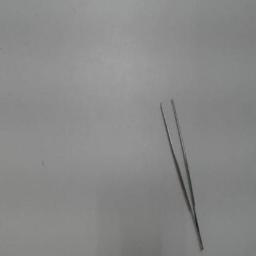Gillies Toothed Dissector: (154, 92, 206, 254)
